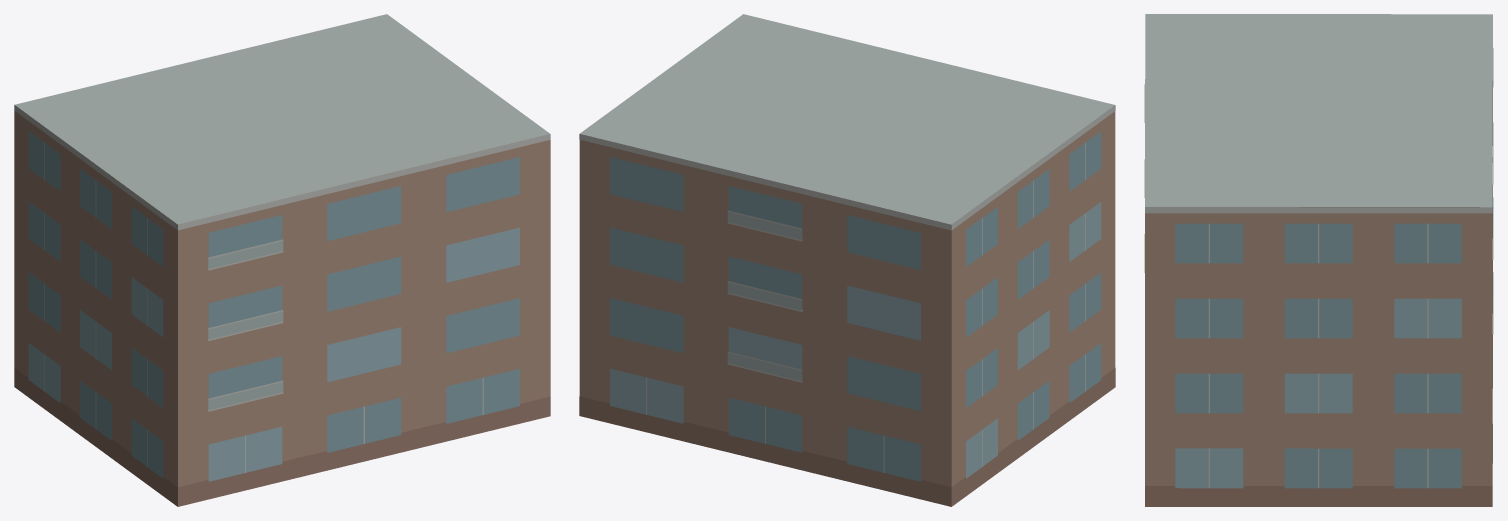
The model's file is survey-upis-32538574.glb.
3 views of the same model, side by side, from view 1: azimuth 30°, elevation 25°; view 2: azimuth 150°, elevation 25°; view 3: azimuth 270°, elevation 25° (orthographic). The views are drawn at different scales.
Visible parts, largest first — view 1: survey-upis-32538574.tmp; view 2: survey-upis-32538574.tmp; view 3: survey-upis-32538574.tmp.
Part boxes in pixels (x1,y1,x2,y2): survey-upis-32538574.tmp: (14,14,550,506); survey-upis-32538574.tmp: (579,14,1115,506); survey-upis-32538574.tmp: (1144,14,1493,506).
Bounding box in the file's own units: 16.34 × 11.82 × 12.5.
